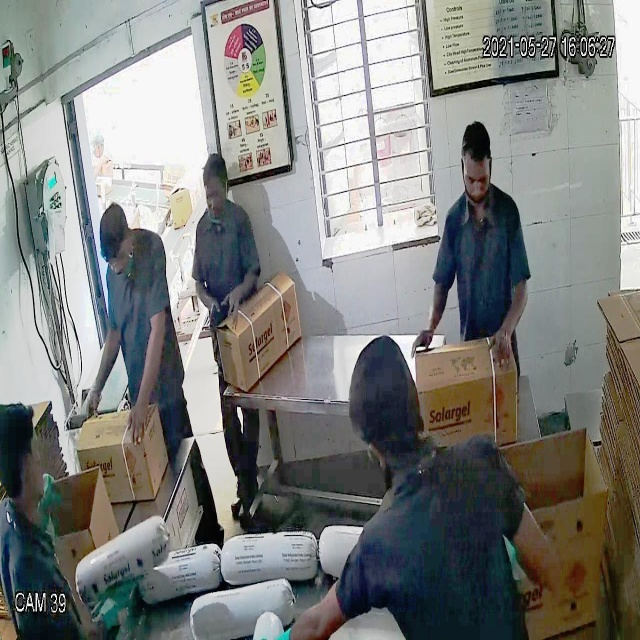Sin_gafas: (458, 164, 493, 197)
